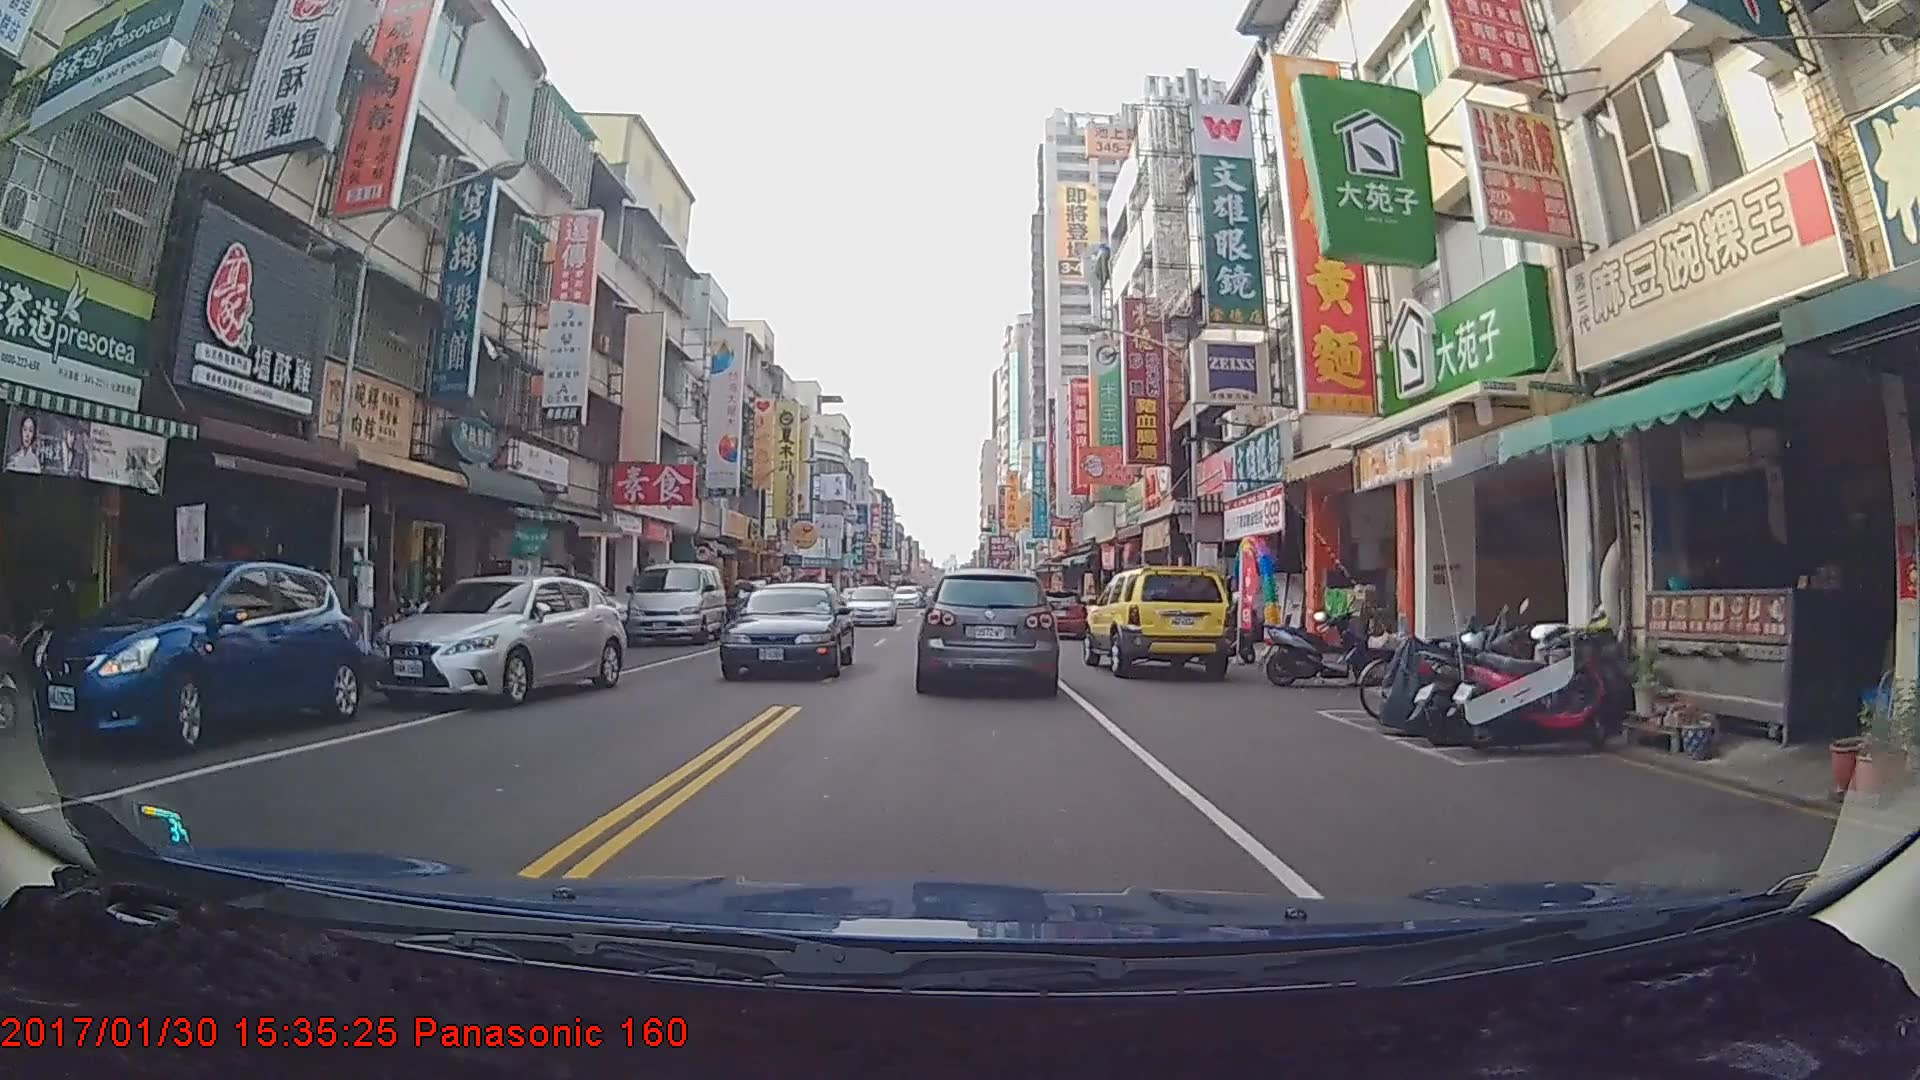vehicle: (29, 556, 363, 754), (363, 568, 628, 704), (916, 567, 1058, 694), (1085, 559, 1236, 676), (717, 580, 855, 680), (622, 562, 725, 644), (1023, 585, 1087, 638), (843, 585, 895, 629), (891, 585, 920, 607)
